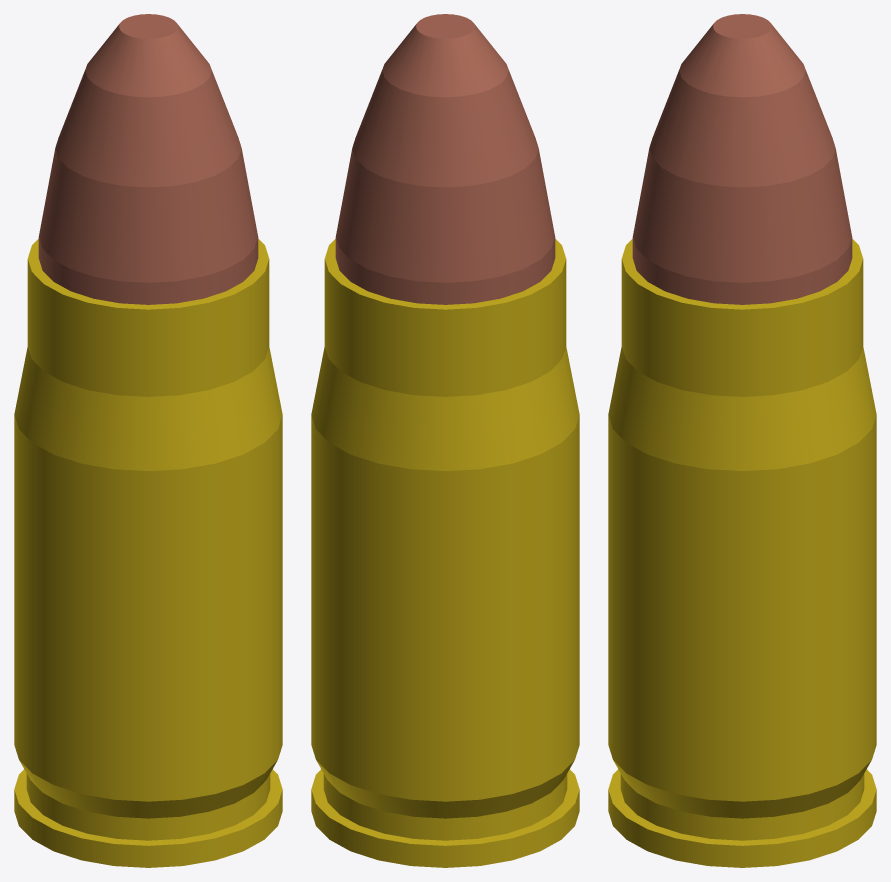
File: ammo_sniper.fbx
The picture shows the model from 3 angles, left to right: view 1: azimuth 30°, elevation 25°; view 2: azimuth 150°, elevation 25°; view 3: azimuth 270°, elevation 25°; orthographic projection.
Parts seen in each view (by area): view 1: Mesh1_Group2 Group1 Model, Mesh2_Group3 Group1 Model; view 2: Mesh1_Group2 Group1 Model, Mesh2_Group3 Group1 Model; view 3: Mesh1_Group2 Group1 Model, Mesh2_Group3 Group1 Model.
Boxes of the visible parts, box(x1,y1,x2,y2) form: Mesh1_Group2 Group1 Model: box(14, 239, 282, 867); Mesh2_Group3 Group1 Model: box(38, 14, 258, 304); Mesh1_Group2 Group1 Model: box(311, 239, 579, 867); Mesh2_Group3 Group1 Model: box(335, 14, 555, 304); Mesh1_Group2 Group1 Model: box(608, 239, 876, 867); Mesh2_Group3 Group1 Model: box(632, 14, 852, 304).
Bounding box in the file's own units: 0.0066 × 0.0213 × 0.0066.
